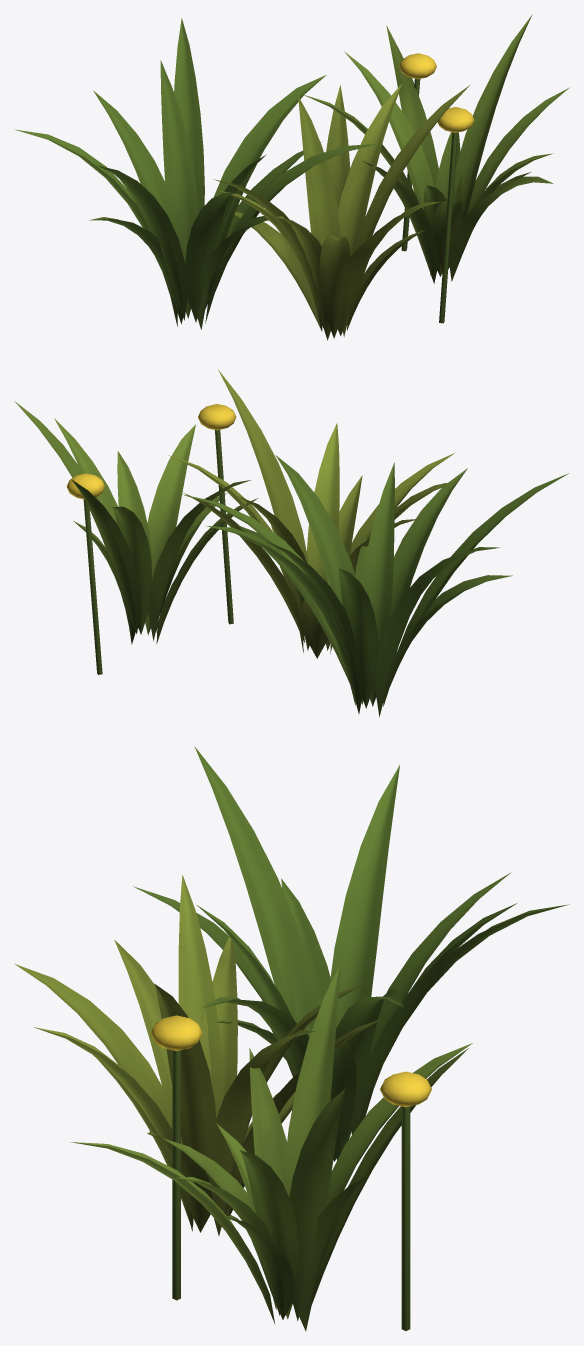
File: yd_weeds__227.glb
3 renders of one model, top to bottom at view 1: azimuth 30°, elevation 25°; view 2: azimuth 150°, elevation 25°; view 3: azimuth 270°, elevation 25°, orthographic. The views are drawn at different scales.
Parts seen in each view (by area): view 1: prop_yd_weeds; view 2: prop_yd_weeds; view 3: prop_yd_weeds.
Part boxes in pixels (x1,y1,x2,y2): prop_yd_weeds: [15, 14, 569, 340]; prop_yd_weeds: [14, 369, 568, 717]; prop_yd_weeds: [14, 746, 569, 1331].
Bounding box in the file's own units: 0.7277 × 0.3329 × 0.5098.
